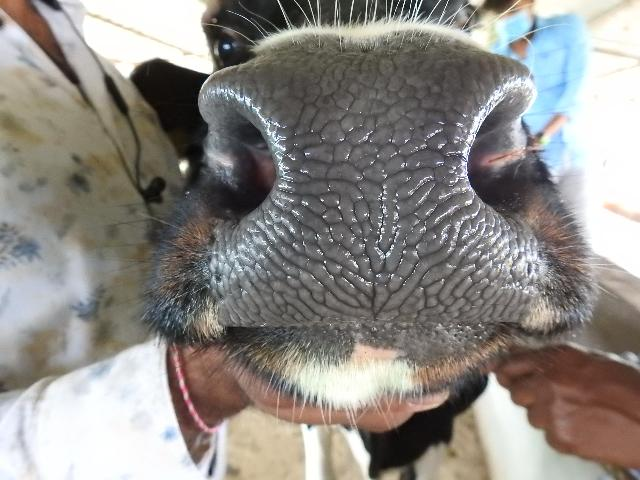Muzzle: (263, 59, 495, 321)
